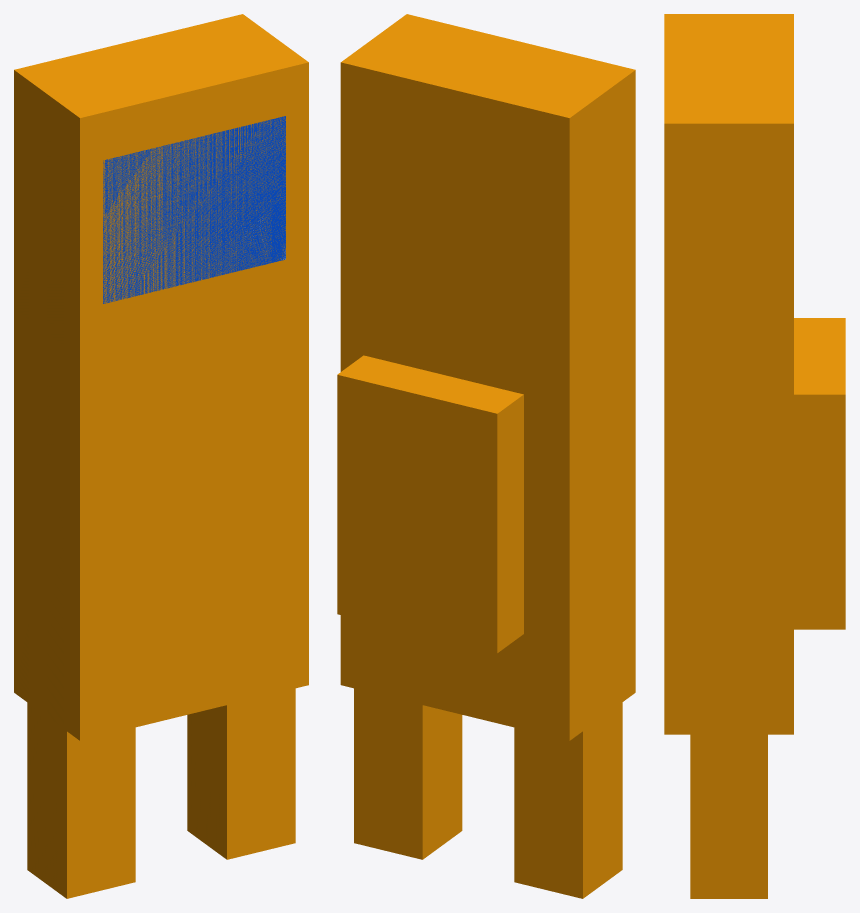
Rendered from Among Us Char(Orange).gltf.
3 renders of one model, left to right at view 1: azimuth 30°, elevation 25°; view 2: azimuth 150°, elevation 25°; view 3: azimuth 270°, elevation 25°, orthographic.
Visible parts, largest first — view 1: 05df4ede-f837-c188-2e33-ef64abd97eee, cc3eb372-91fc-9da0-78a3-6f8f9a1f2dee, 9b6c5594-3cbf-47c0-bc0a-358ef91bbe2c, 3fa73543-9e25-d95c-6e87-302f2be02166, 2d3a24b5-ea57-e50f-346a-9413c0539ccd; view 2: cc3eb372-91fc-9da0-78a3-6f8f9a1f2dee, 05df4ede-f837-c188-2e33-ef64abd97eee, 5496d620-28b4-4bca-3728-1c5a1bee6332, 3fa73543-9e25-d95c-6e87-302f2be02166, 2d3a24b5-ea57-e50f-346a-9413c0539ccd; view 3: 05df4ede-f837-c188-2e33-ef64abd97eee, cc3eb372-91fc-9da0-78a3-6f8f9a1f2dee, 5496d620-28b4-4bca-3728-1c5a1bee6332, 2d3a24b5-ea57-e50f-346a-9413c0539ccd.
Boxes of the visible parts, <box> form: 05df4ede-f837-c188-2e33-ef64abd97eee: <box>14,302,308,740</box>; cc3eb372-91fc-9da0-78a3-6f8f9a1f2dee: <box>14,14,308,357</box>; 9b6c5594-3cbf-47c0-bc0a-358ef91bbe2c: <box>103,116,285,303</box>; 3fa73543-9e25-d95c-6e87-302f2be02166: <box>27,702,135,898</box>; 2d3a24b5-ea57-e50f-346a-9413c0539ccd: <box>187,688,295,859</box>; cc3eb372-91fc-9da0-78a3-6f8f9a1f2dee: <box>340,14,635,357</box>; 05df4ede-f837-c188-2e33-ef64abd97eee: <box>340,302,635,740</box>; 5496d620-28b4-4bca-3728-1c5a1bee6332: <box>337,355,523,653</box>; 3fa73543-9e25-d95c-6e87-302f2be02166: <box>514,702,622,898</box>; 2d3a24b5-ea57-e50f-346a-9413c0539ccd: <box>354,688,462,859</box>; 05df4ede-f837-c188-2e33-ef64abd97eee: <box>664,358,793,734</box>; cc3eb372-91fc-9da0-78a3-6f8f9a1f2dee: <box>664,14,793,358</box>; 5496d620-28b4-4bca-3728-1c5a1bee6332: <box>794,318,845,629</box>; 2d3a24b5-ea57-e50f-346a-9413c0539ccd: <box>690,734,767,898</box>.
Bounding box in the file's own units: 0.625 × 2.06 × 0.4375.
4 materials, 4 textured.
